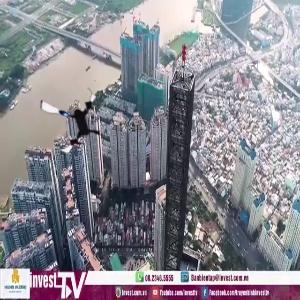drone: (37, 84, 110, 157)
